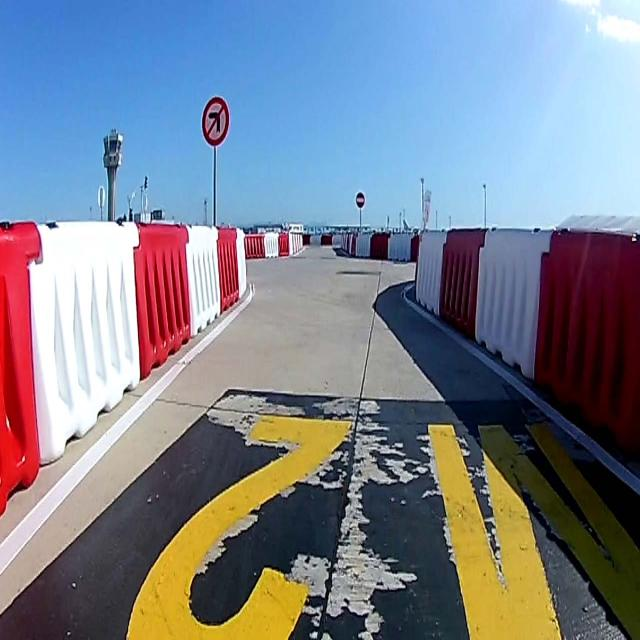girisyok: (355, 192, 365, 209)
soladonulmez: (202, 96, 230, 146)
